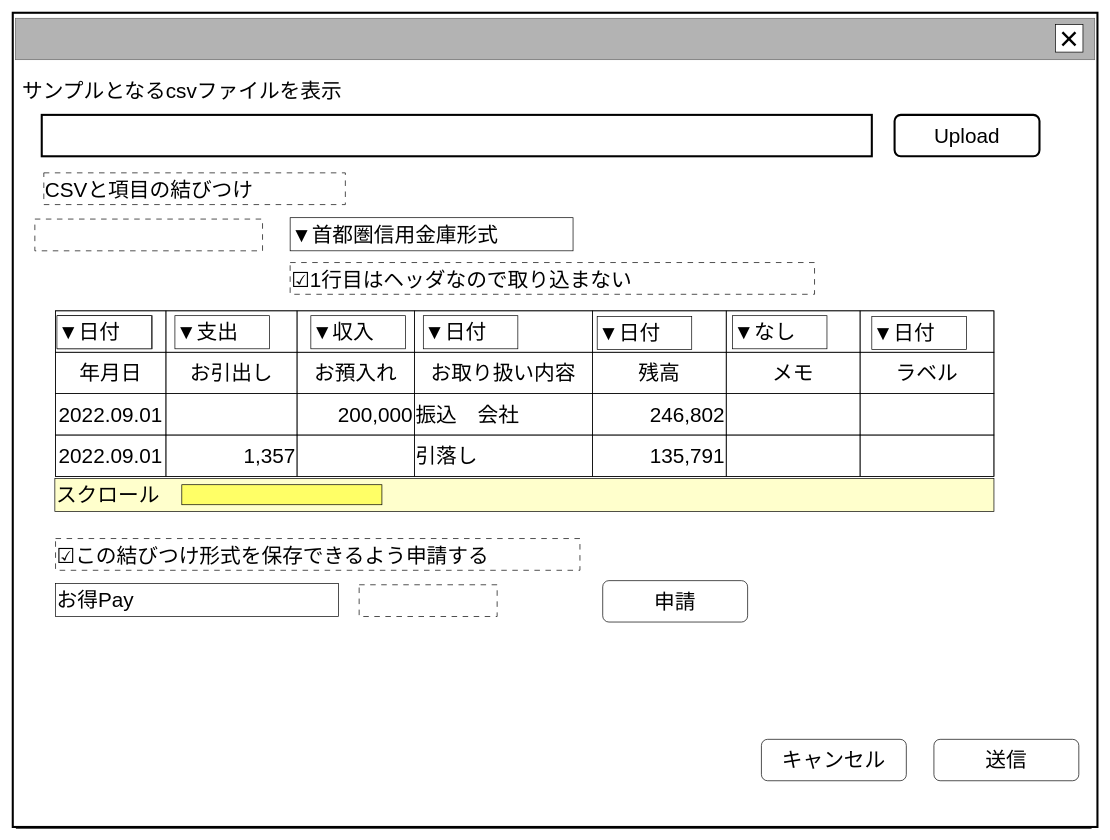
The diagram is 1110 pixels wide and 840 high, and some of its shapes have lost their labels. The centre of each missing label's shape, as x and y in pixels:
形式: the point at 427,600
形式名称: the point at 148,234
